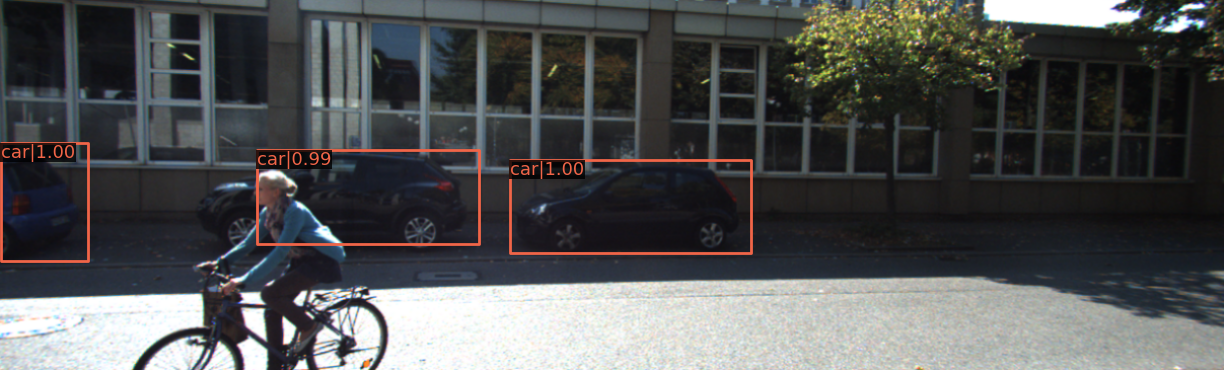car: (194, 147, 471, 253), (510, 157, 746, 252), (1, 149, 85, 257)
